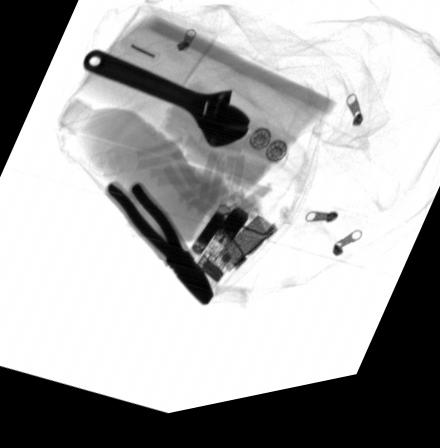Pliers: (103, 182, 216, 317)
Wrench: (81, 52, 249, 155)
